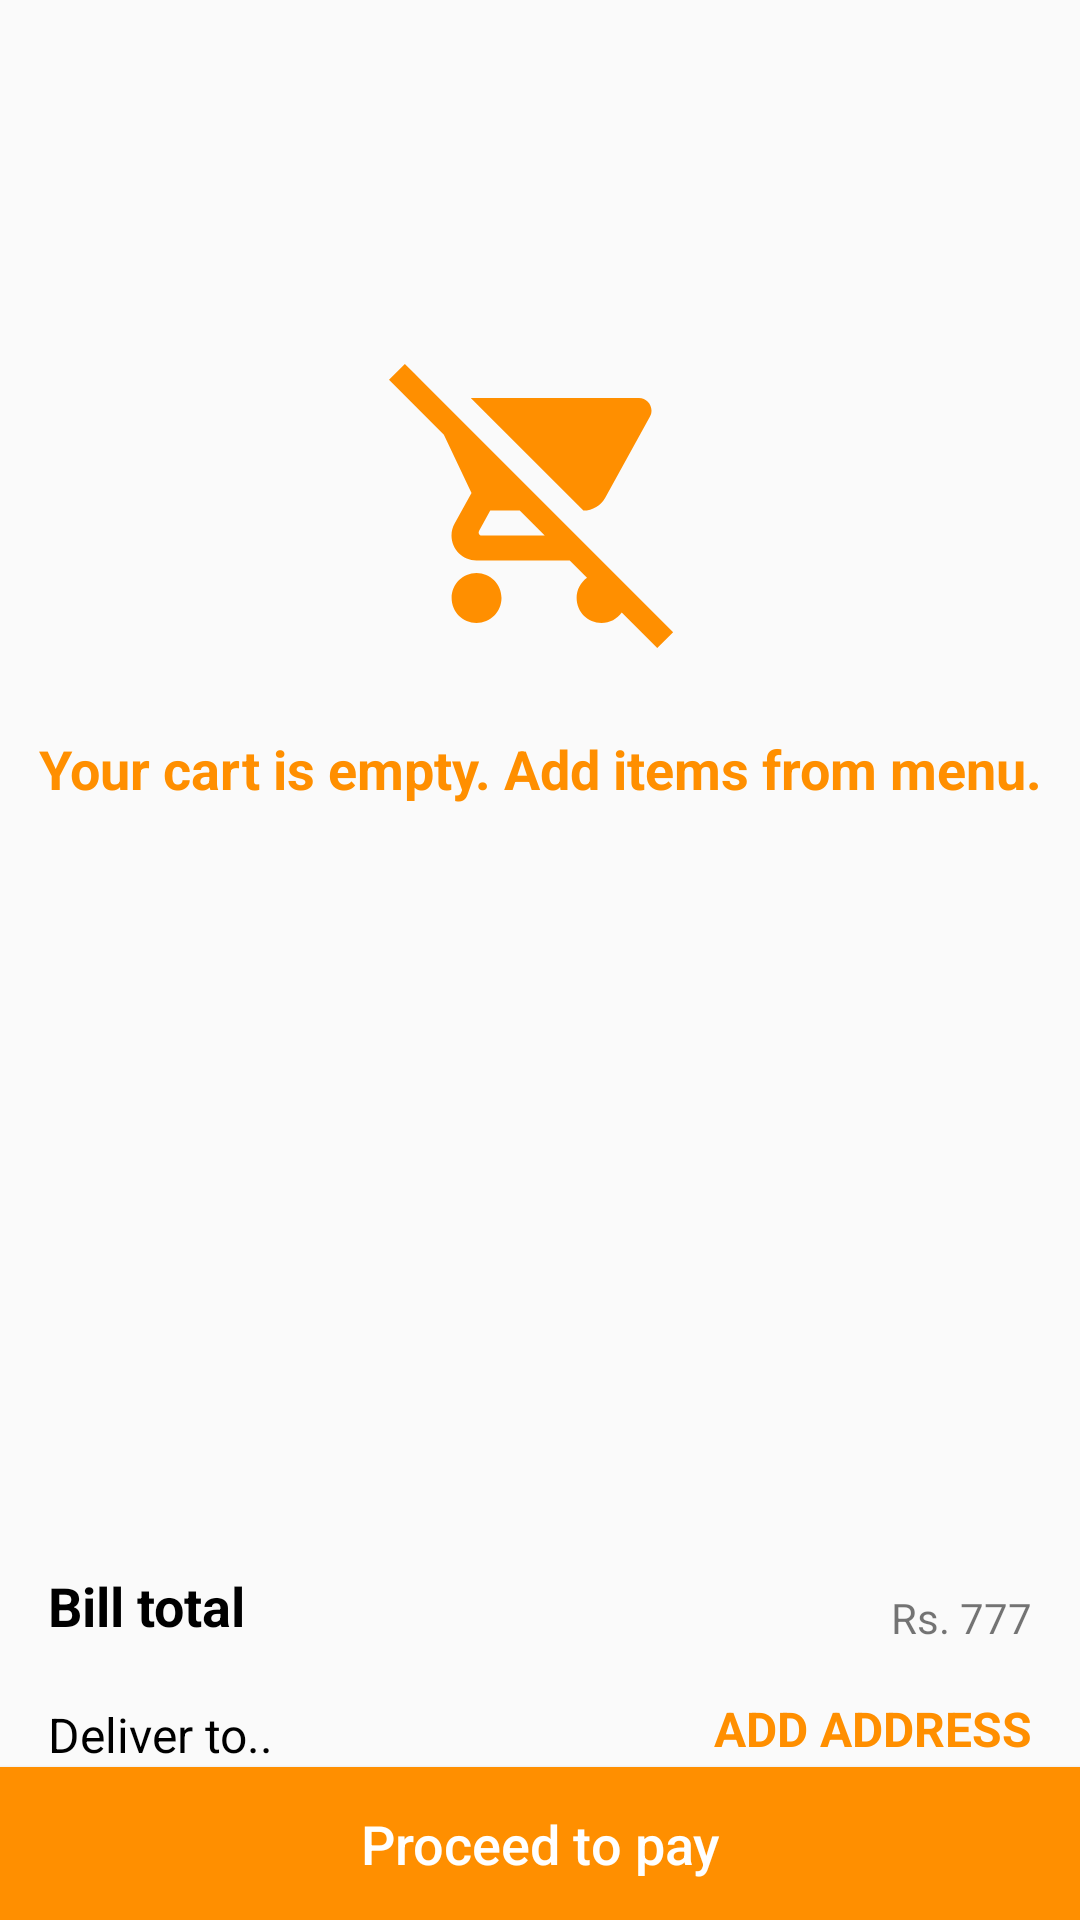

Screen size 1080×1920. Icon name, then its box in pixels as (x1,y1,x2,y2):
remove shopping cart: (389,364,673,648)
